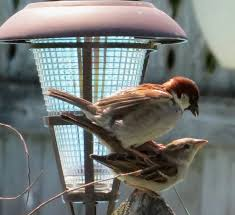home_sparrow: (43, 68, 205, 151), (87, 133, 215, 200)
